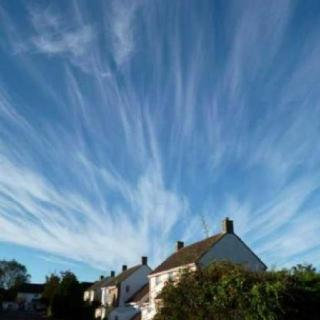Cirrus: (0, 0, 316, 258)
